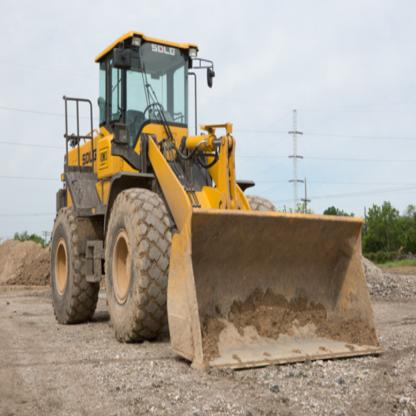bull_dozer/loader/grader: (41, 23, 384, 372)
